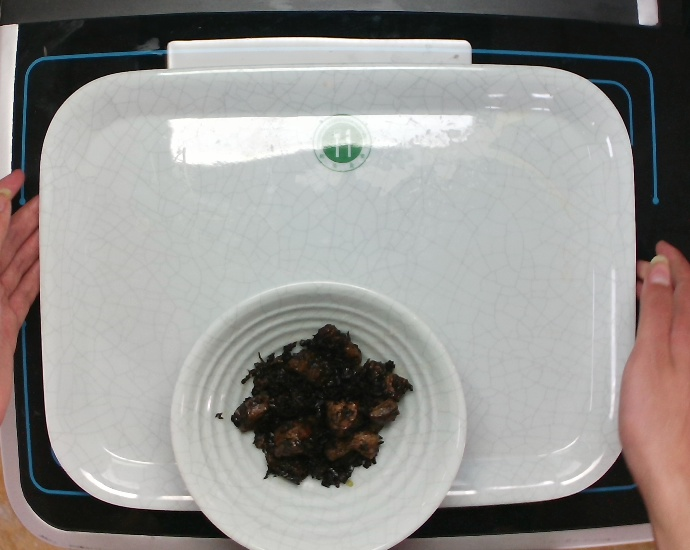JYsf-Xiao_Tang_Wan: (169, 277, 475, 550)
